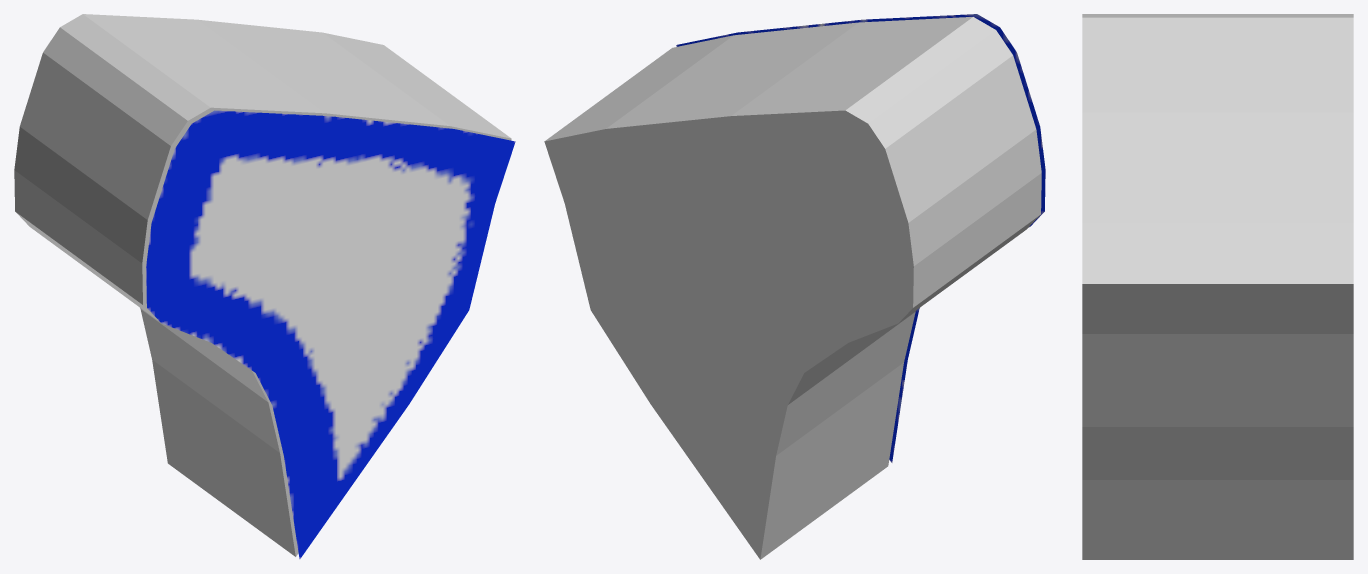
3 views of the same model, side by side, from view 1: azimuth 30°, elevation 25°; view 2: azimuth 150°, elevation 25°; view 3: azimuth 270°, elevation 25° (orthographic). The views are drawn at different scales.
Visible parts, largest first — view 1: In_5_1, In_5_0; view 2: In_5_0, In_5_1; view 3: In_5_0.
Boxes of the visible parts, x1=… form: In_5_1: x1=146, y1=110, x2=515, y2=559; In_5_0: x1=14, y1=14, x2=511, y2=556; In_5_0: x1=544, y1=17, x2=1041, y2=559; In_5_1: x1=676, y1=14, x2=1045, y2=462; In_5_0: x1=1082, y1=14, x2=1353, y2=559.
Size of the model in its own units: 0.8336 by 1.01 by 0.515.
2 materials, 1 textured.
